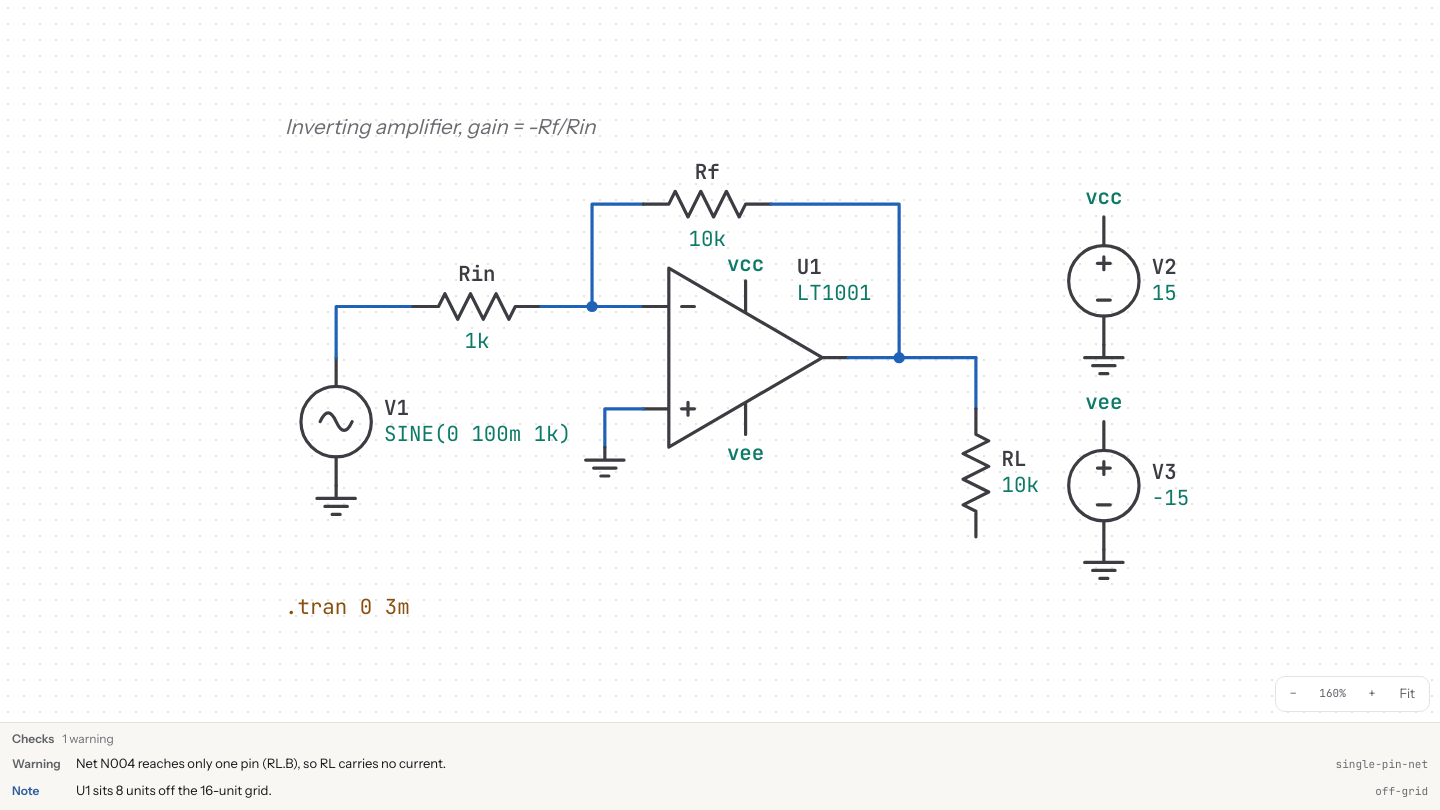
SchematicView › injects the sanitised drawing and lists findings that locate their part
This screenshot has width=1440, height=810.
What coordinates should you click on to do the following:
click the button "Net N004 reaches only one pin"
I would click on:
 (36, 764)
Its box is [4,750,1436,777].
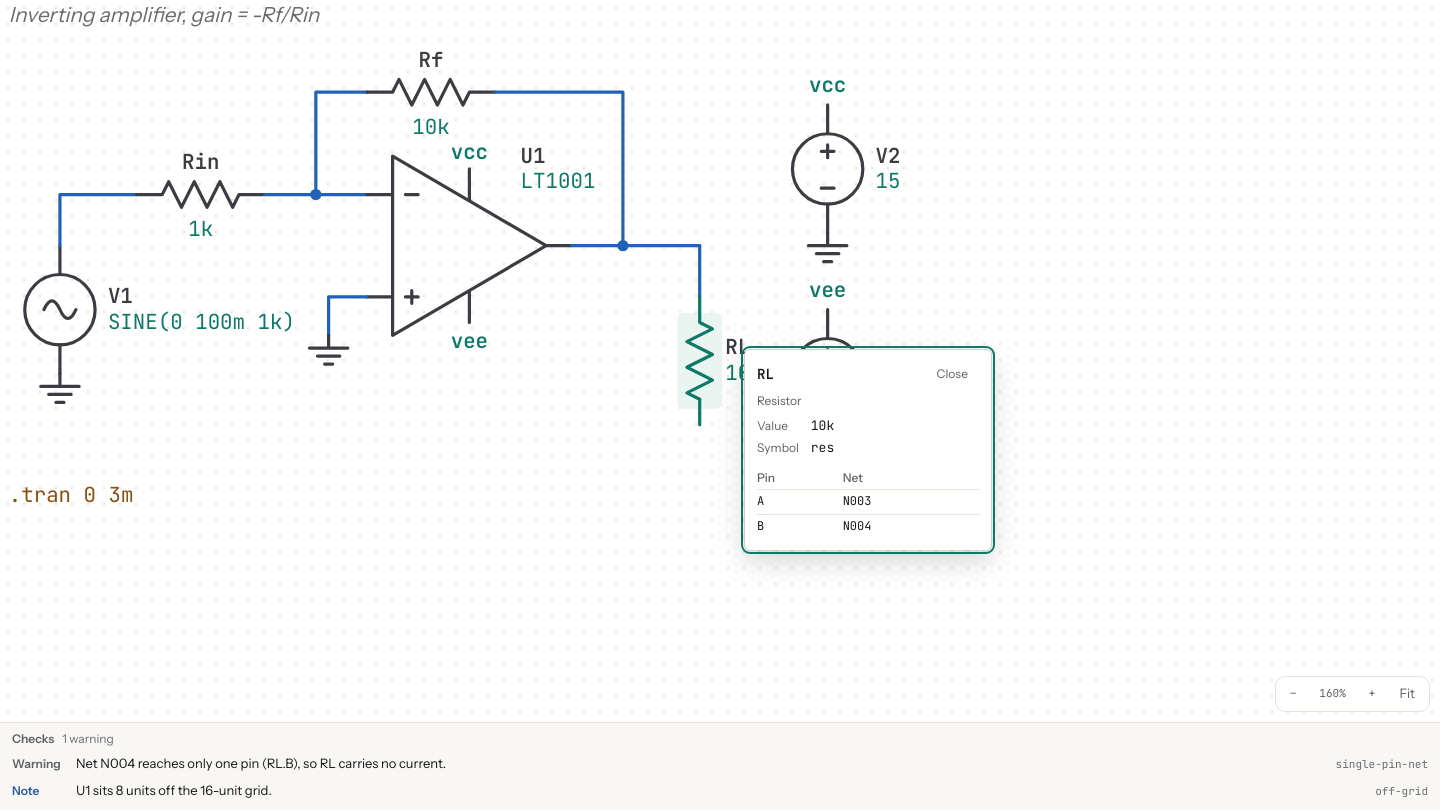
Result: the dialog named "RL details" shows "N004" at [843,518,872,534]
